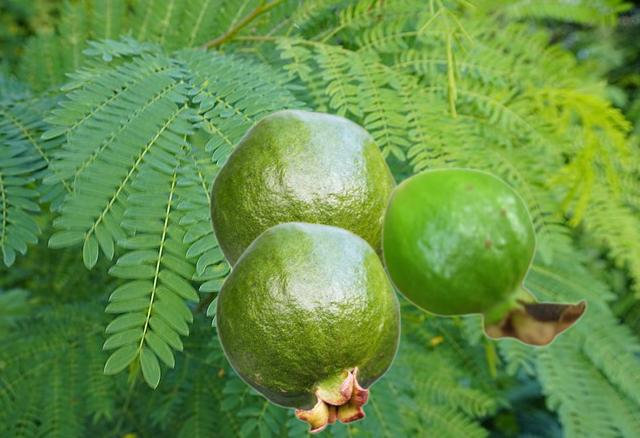guava: (214, 221, 400, 433), (380, 166, 587, 347), (208, 109, 396, 267)
